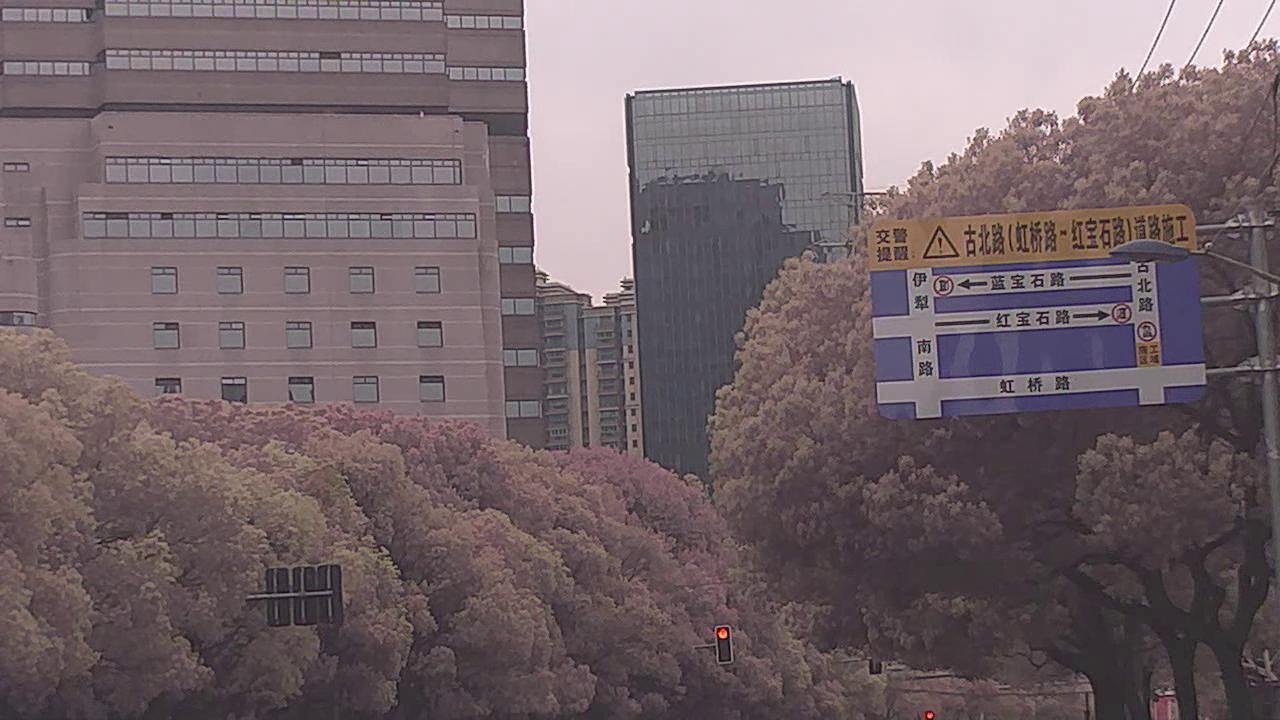traffic_light: (716, 624, 734, 665)
